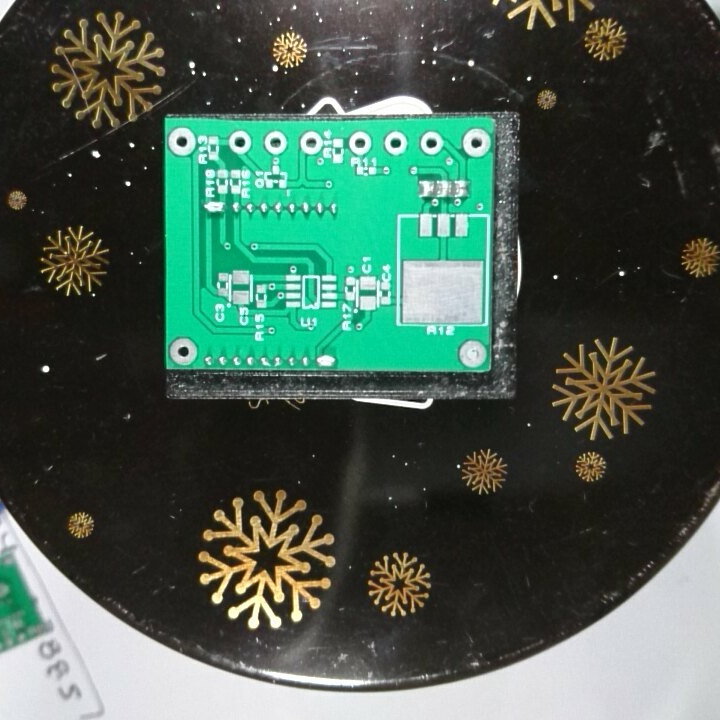F: (460, 127, 493, 158), (167, 124, 197, 158), (456, 340, 489, 369), (168, 335, 199, 365), (347, 130, 375, 156), (263, 129, 288, 158), (383, 130, 409, 157), (227, 129, 254, 155), (419, 131, 445, 156), (299, 129, 323, 156)
P: (201, 198, 228, 217), (315, 354, 339, 369)
